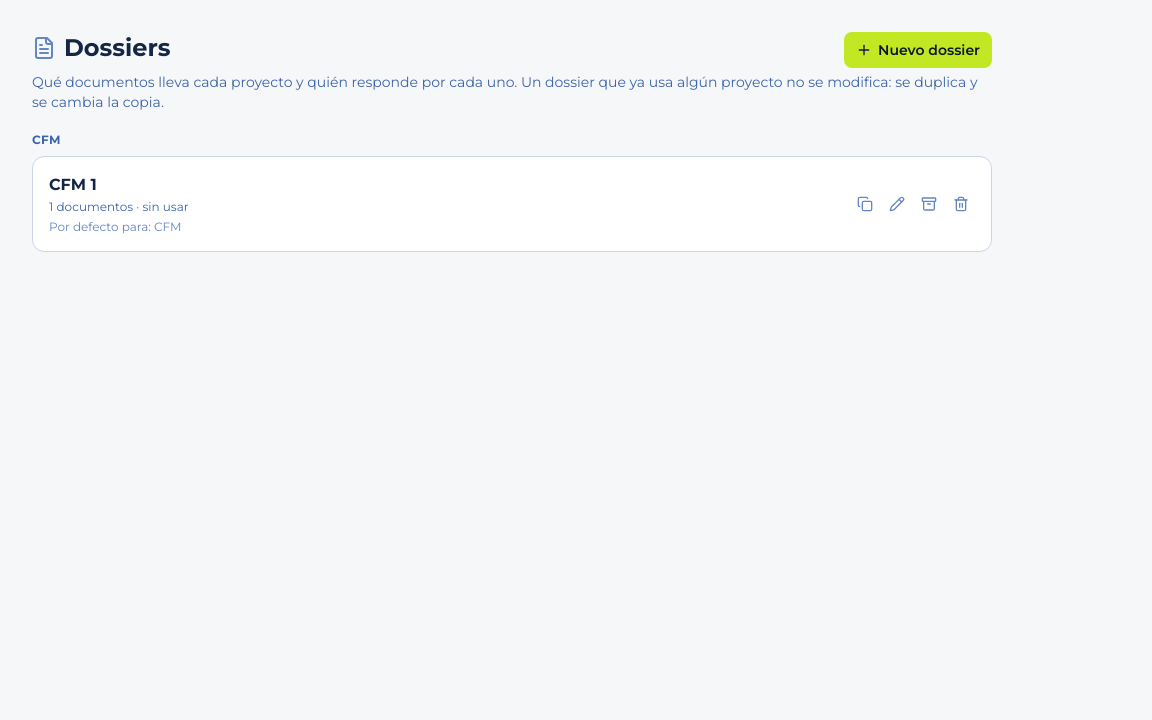
Test: un dossier SIN USAR se puede editar entero › ofrece agregar, editar y quitar documentos
Click the button "CFM 1 1 documentos · sin usar Por defecto para: CFM": coordinates (73, 184) [49,173,835,235]
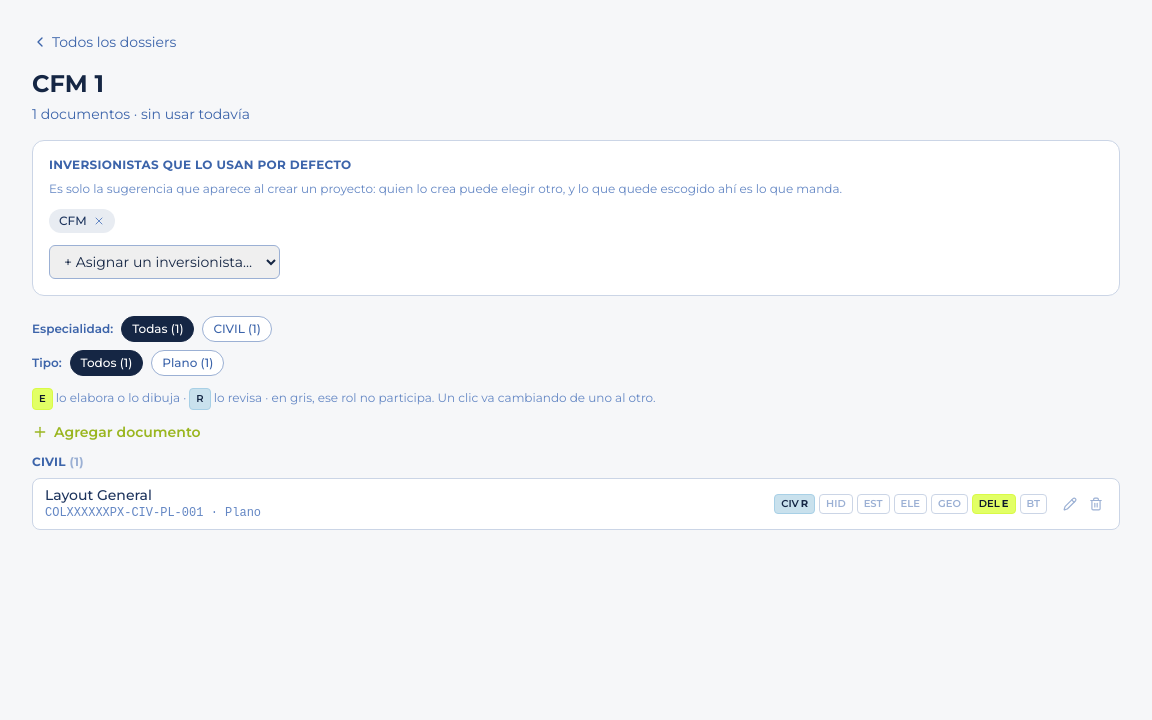
Check: the button "Agregar documento" is shown, box [32,422,201,442]
Check: the button titled "Editar documento" is shown, box [1059,493,1081,515]
Check: the button titled "Quitar documento" is shown, box [1085,493,1107,515]
